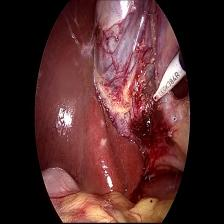Hook: (149, 52, 189, 108)
